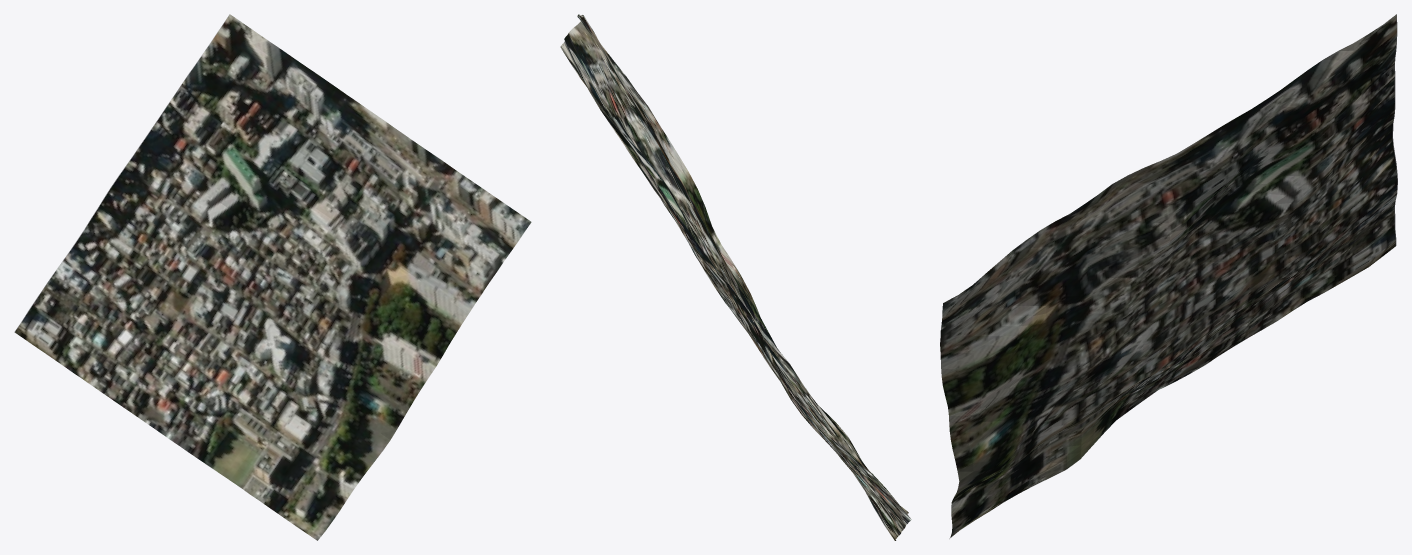
3 views of the same model, side by side, from view 1: azimuth 30°, elevation 25°; view 2: azimuth 150°, elevation 25°; view 3: azimuth 270°, elevation 25° (orthographic). The views are drawn at different scales.
Bounding box in the file's own units: 539 × 566 × 409.
1 material, 1 textured.
